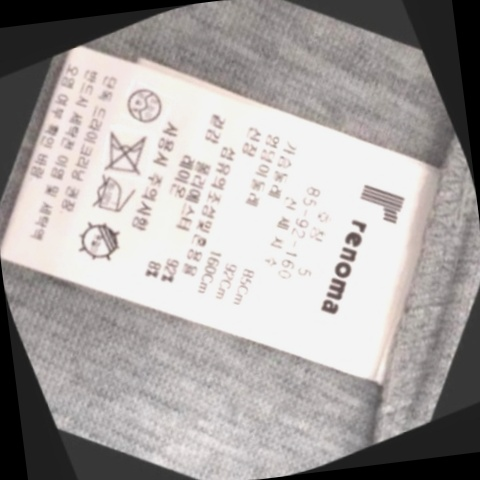DN_wash: (93, 120, 164, 185)
dry_clean_petrol_only: (117, 75, 174, 131)
iron_low: (81, 167, 143, 226)
line_dry_in_shade: (69, 210, 137, 272)
